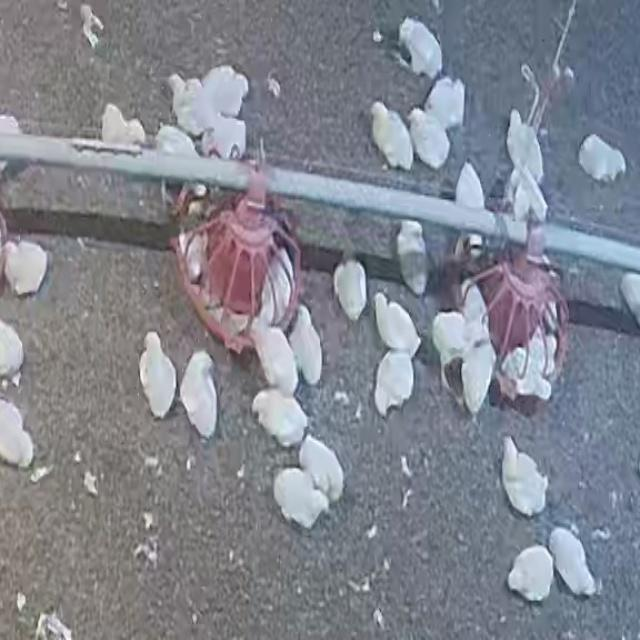chicken: (498, 435, 550, 519), (432, 309, 476, 403), (153, 124, 206, 201), (250, 317, 298, 397), (273, 468, 332, 532), (138, 331, 178, 421), (551, 524, 598, 600), (180, 350, 218, 438), (392, 14, 444, 78), (367, 100, 413, 172), (502, 351, 562, 406), (503, 107, 547, 181), (301, 436, 348, 504), (197, 66, 250, 124), (372, 290, 420, 354), (290, 306, 326, 390), (505, 544, 553, 604), (374, 352, 417, 418), (409, 108, 454, 171), (258, 248, 295, 324), (2, 238, 49, 297), (457, 163, 487, 255), (252, 394, 305, 446), (396, 218, 431, 296), (0, 394, 36, 469), (577, 134, 628, 184), (464, 345, 498, 418), (167, 73, 205, 137), (424, 78, 468, 130), (511, 164, 548, 223), (331, 262, 367, 321), (248, 302, 280, 366), (100, 103, 145, 148), (203, 118, 246, 160), (0, 316, 25, 383), (1, 113, 26, 177), (182, 226, 207, 284), (461, 281, 488, 332), (463, 310, 492, 356), (620, 273, 640, 330)
